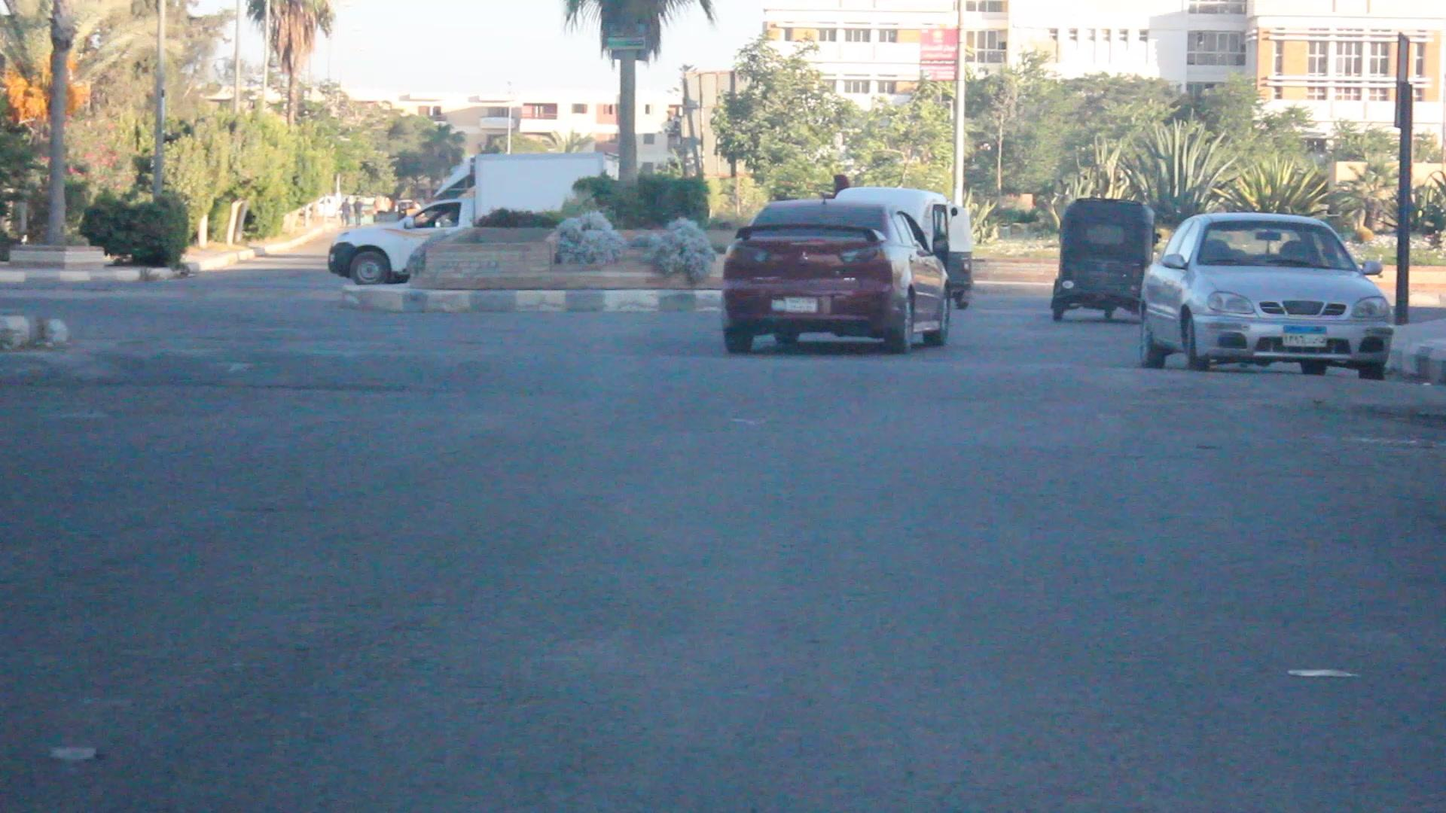Bump: (9, 350, 1446, 438)
